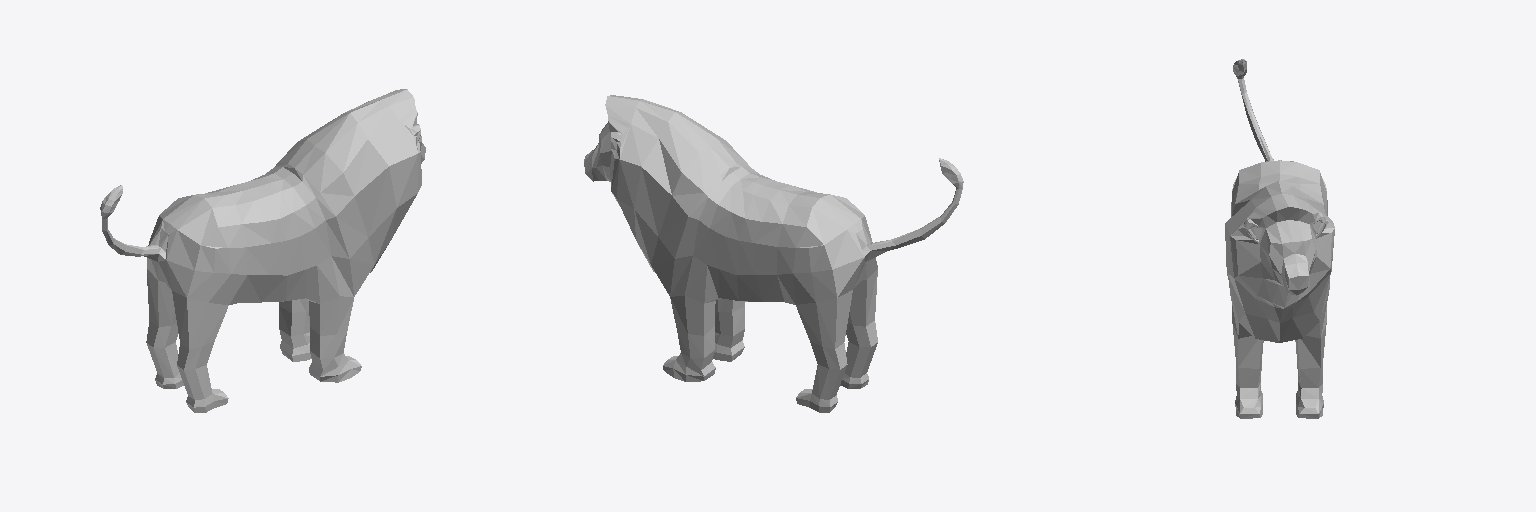
File: lion-scaled.obj
3 renders of one model, left to right at view 1: azimuth 30°, elevation 25°; view 2: azimuth 150°, elevation 25°; view 3: azimuth 270°, elevation 25°, orthographic.
Visible parts, largest first — view 1: Lion_Plane; view 2: Lion_Plane; view 3: Lion_Plane.
Boxes of the visible parts, x1=… form: Lion_Plane: x1=100, y1=89, x2=425, y2=412; Lion_Plane: x1=584, y1=95, x2=963, y2=412; Lion_Plane: x1=1225, y1=59, x2=1334, y2=418.
Bounding box in the file's own units: 1.95 × 1.34 × 0.5335.